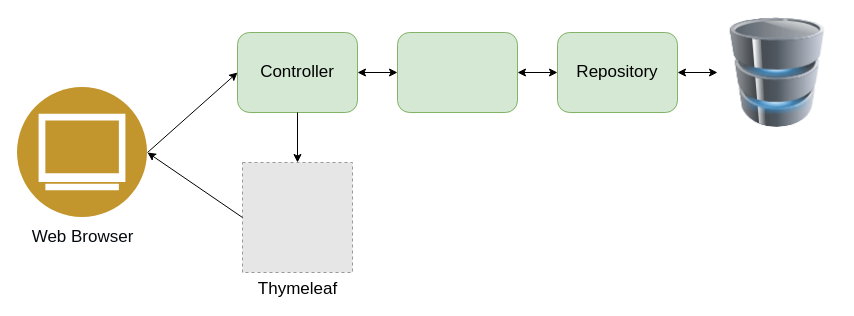
Some shapes in this 854 by 316 pixel diagram are drawn without their labels. Grey dashed boxes stand in for pictures. Here are the shapes that lost their labels. From the top down, the centre of each, then its label:
At pixel 457 72: "Service".
At pixel 777 72: "Database".
